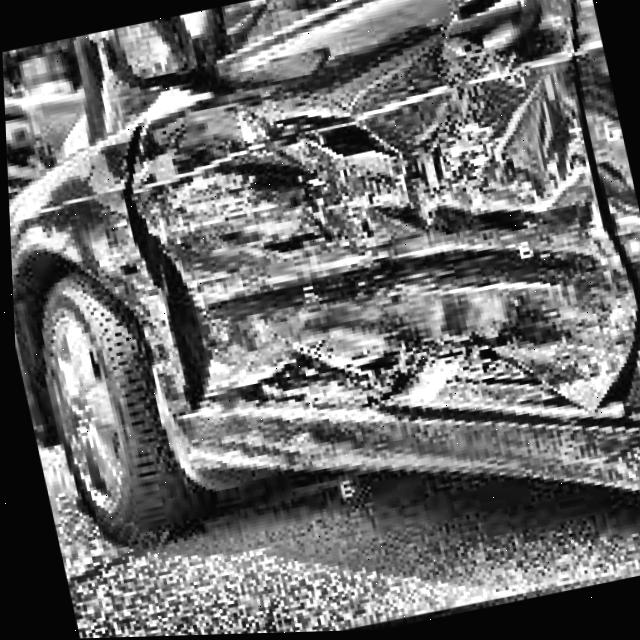door_dent: (129, 19, 640, 436)
